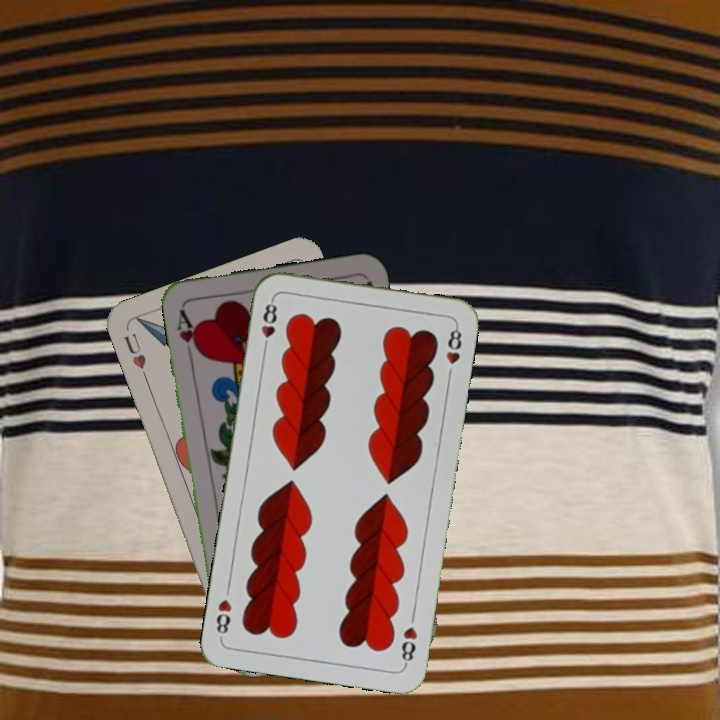H8: (257, 295, 280, 354), (397, 622, 420, 668)
HA: (172, 304, 203, 363)
HU: (119, 329, 150, 382)
